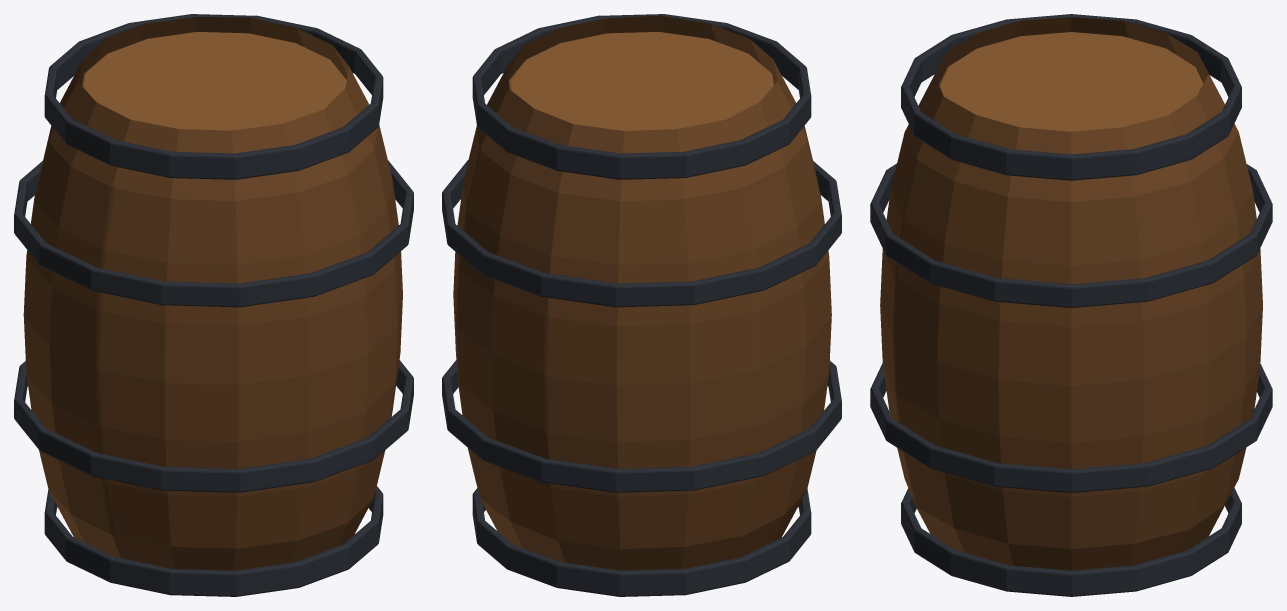
The model's file is barrel_final.glb.
3 renders of one model, left to right at view 1: azimuth 30°, elevation 25°; view 2: azimuth 150°, elevation 25°; view 3: azimuth 270°, elevation 25°, orthographic.
Visible parts, largest first — view 1: SM_Barrel; view 2: SM_Barrel; view 3: SM_Barrel.
Boxes of the visible parts, x1=… form: SM_Barrel: x1=14, y1=14, x2=413, y2=596; SM_Barrel: x1=442, y1=14, x2=841, y2=596; SM_Barrel: x1=870, y1=14, x2=1272, y2=596.
Bounding box in the file's own units: 0.7489 × 0.95 × 0.7489.
